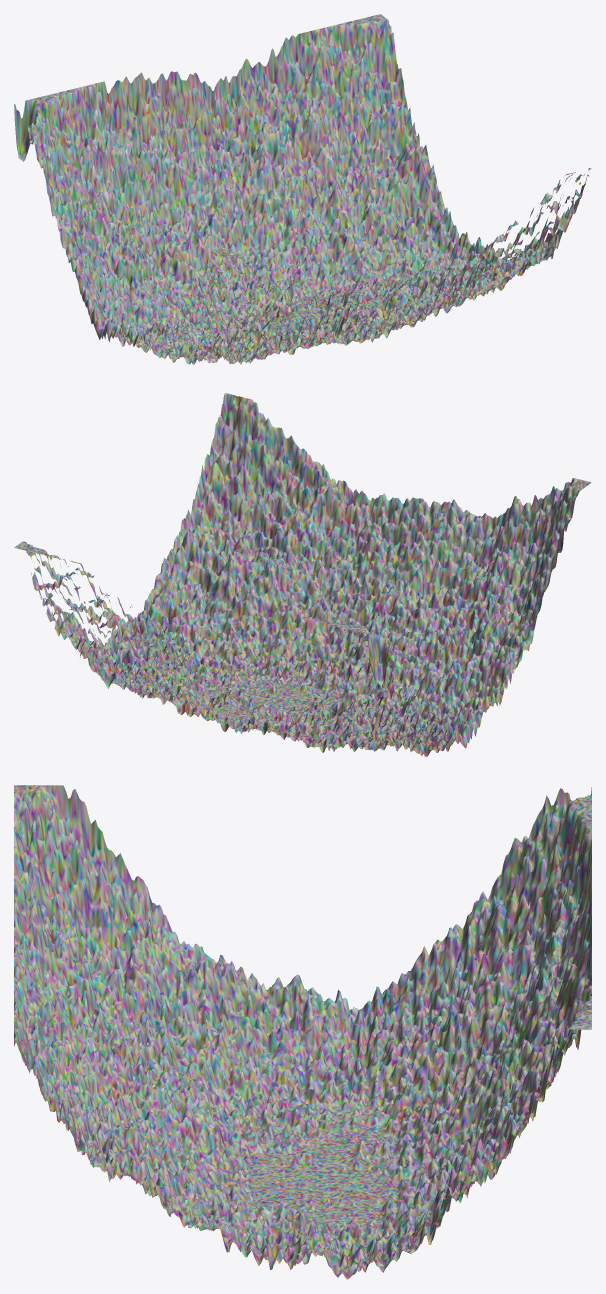
The model's file is dsm_b53d66246c_mesh.glb.
3 renders of one model, top to bottom at view 1: azimuth 30°, elevation 25°; view 2: azimuth 150°, elevation 25°; view 3: azimuth 270°, elevation 25°, orthographic. The views are drawn at different scales.
Visible parts, largest first — view 1: geometry_0; view 2: geometry_0; view 3: geometry_0.
Boxes of the visible parts, x1,y1,x2,y2 form: geometry_0: (14, 14, 591, 364); geometry_0: (14, 393, 591, 756); geometry_0: (14, 785, 591, 1279).
Bounding box in the file's own units: 2 × 1 × 2.
